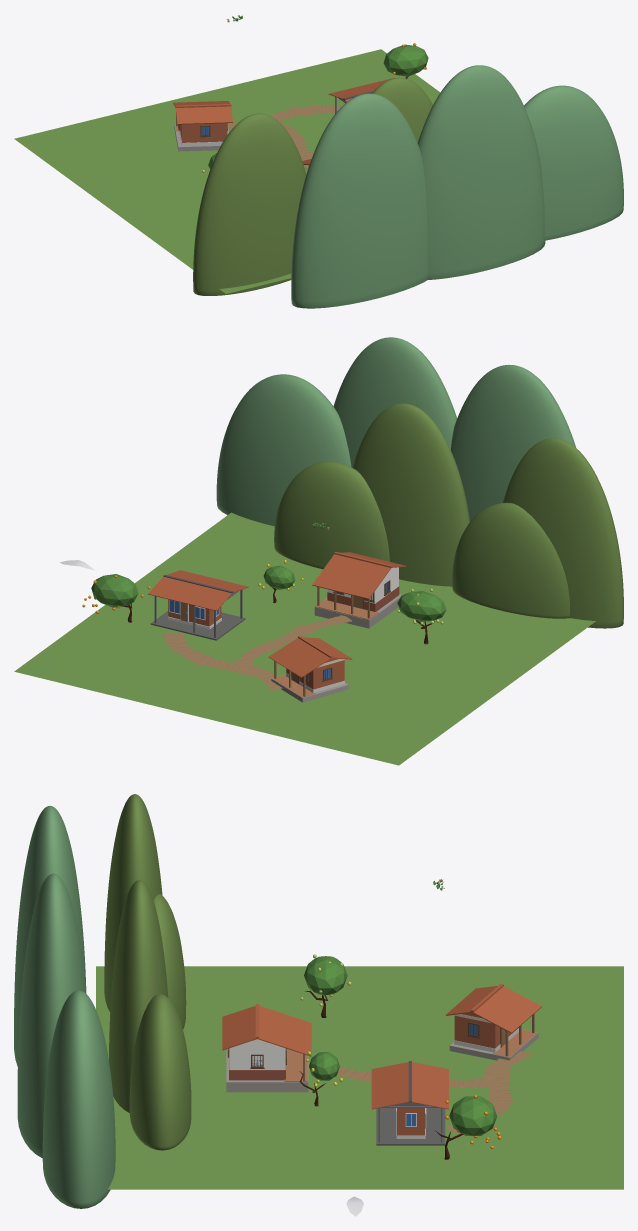
The model's file is Escenario Rural Cauca.glb.
The picture shows the model from 3 angles, top to bottom: view 1: azimuth 30°, elevation 25°; view 2: azimuth 150°, elevation 25°; view 3: azimuth 270°, elevation 25°; orthographic projection. The views are drawn at different scales.
Parts seen in each view (by area): view 1: Plano, Esfera.020, Esfera.011, Esfera.019, Esfera.009, Esfera.016, Casa_Ladrillo_Teja_Techo_Teja_Barro, ARBOL_Copa_003, Camino_Tierra, Casa_Ladrillo_Teja_Muros, Techo_Tejas; view 2: Plano, Esfera.016, Esfera.009, Esfera.019, Esfera.020, Esfera.017, Esfera.014, Esfera.011, Camino_Tierra, Casa_Blanca_Corredor_Techo_Teja_Barro, Techo_Tejas, Casa_Ladrillo_Teja_Techo_Teja_Barro (+6 smaller); view 3: Plano, Esfera.009, Esfera.011, Esfera.014, Esfera.016, Esfera.020, Esfera.019, Techo_Tejas, Casa_Blanca_Corredor_Techo_Teja_Barro, Casa_Ladrillo_Teja_Techo_Teja_Barro, Esfera.017, Camino_Tierra (+11 smaller).
Boxes of the visible parts, x1=… form: Plano: x1=14, y1=49, x2=440, y2=293; Esfera.020: x1=291, y1=93, x2=427, y2=308; Esfera.011: x1=417, y1=65, x2=545, y2=279; Esfera.019: x1=193, y1=113, x2=306, y2=295; Esfera.009: x1=524, y1=85, x2=623, y2=240; Esfera.016: x1=372, y1=77, x2=432, y2=142; Casa_Ladrillo_Teja_Techo_Teja_Barro: x1=173, y1=101, x2=232, y2=124; ARBOL_Copa_003: x1=383, y1=44, x2=428, y2=76; Camino_Tierra: x1=227, y1=105, x2=342, y2=168; Casa_Ladrillo_Teja_Muros: x1=180, y1=123, x2=227, y2=142; Techo_Tejas: x1=328, y1=78, x2=394, y2=102; Plano: x1=14, y1=512, x2=595, y2=765; Esfera.016: x1=352, y1=403, x2=469, y2=586; Esfera.009: x1=216, y1=374, x2=351, y2=526; Esfera.019: x1=503, y1=438, x2=623, y2=628; Esfera.020: x1=451, y1=365, x2=575, y2=521; Esfera.017: x1=452, y1=502, x2=569, y2=618; Esfera.014: x1=274, y1=461, x2=389, y2=569; Esfera.011: x1=333, y1=337, x2=456, y2=467; Camino_Tierra: x1=162, y1=615, x2=351, y2=690; Casa_Blanca_Corredor_Techo_Teja_Barro: x1=312, y1=552, x2=406, y2=599; Techo_Tejas: x1=148, y1=570, x2=248, y2=610; Casa_Ladrillo_Teja_Techo_Teja_Barro: x1=268, y1=637, x2=352, y2=677; Plano: x1=96, y1=966, x2=623, y2=1189; Esfera.009: x1=42, y1=990, x2=115, y2=1208; Esfera.011: x1=17, y1=873, x2=85, y2=1158; Esfera.014: x1=129, y1=994, x2=191, y2=1150; Esfera.016: x1=109, y1=880, x2=168, y2=1112; Esfera.020: x1=14, y1=806, x2=86, y2=1066; Esfera.019: x1=104, y1=794, x2=162, y2=1012; Techo_Tejas: x1=371, y1=1062, x2=448, y2=1109; Casa_Blanca_Corredor_Techo_Teja_Barro: x1=222, y1=1006, x2=311, y2=1056; Casa_Ladrillo_Teja_Techo_Teja_Barro: x1=446, y1=986, x2=541, y2=1033; Esfera.017: x1=153, y1=894, x2=186, y2=1029; Camino_Tierra: x1=308, y1=1051, x2=532, y2=1134.
Bounding box in the file's own units: 18.24 × 7.51 × 17.26.
